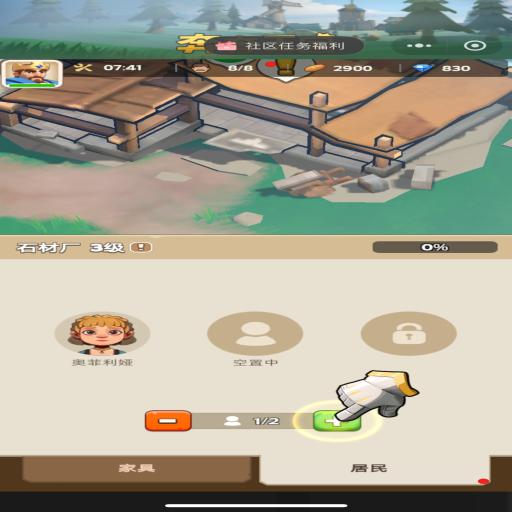newcomer_hand: (330, 370, 416, 420)
